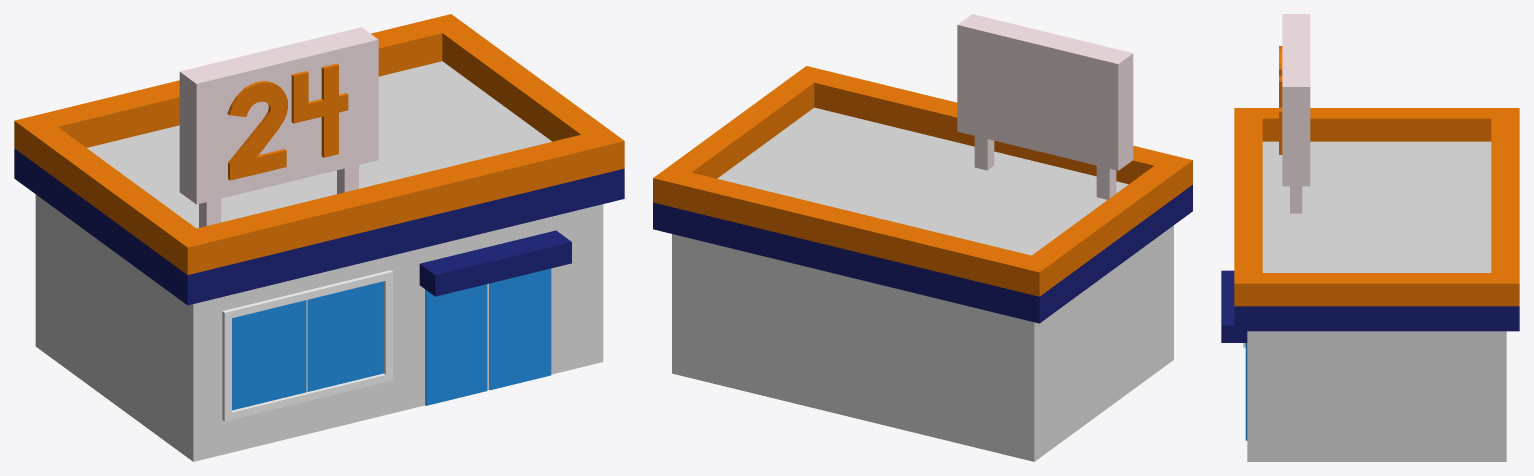
The model's file is convenience_store.glb.
3 views of the same model, side by side, from view 1: azimuth 30°, elevation 25°; view 2: azimuth 150°, elevation 25°; view 3: azimuth 270°, elevation 25° (orthographic). The views are drawn at different scales.
Visible parts, largest first — view 1: Plane.227; view 2: Plane.227; view 3: Plane.227.
Part boxes in pixels (bbox=[...]): Plane.227: bbox=[14, 14, 624, 461]; Plane.227: bbox=[653, 14, 1192, 461]; Plane.227: bbox=[1221, 14, 1519, 461].
Bounding box in the file's own units: 2.11 × 1.66 × 1.52.
1 material, 1 textured.
